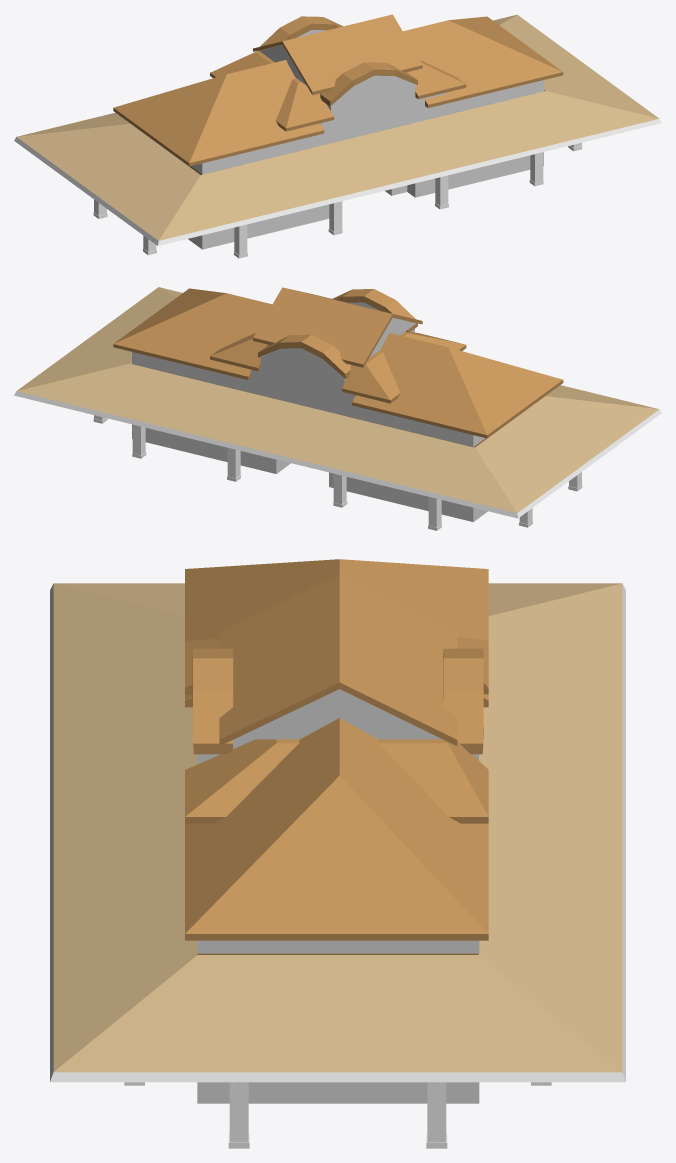
File: Taoyuan_V2.fbx
The picture shows the model from 3 angles, top to bottom: view 1: azimuth 30°, elevation 25°; view 2: azimuth 150°, elevation 25°; view 3: azimuth 270°, elevation 25°; orthographic projection. The views are drawn at different scales.
Parts seen in each view (by area): view 1: Cube.002; view 2: Cube.002; view 3: Cube.002.
Part boxes in pixels (left/top/right/bottom): Cube.002: left=14, top=14, right=661, bottom=258; Cube.002: left=14, top=287, right=661, bottom=530; Cube.002: left=50, top=559, right=625, bottom=1148.
Size of the model in its own units: 2481 by 725 by 1228.
